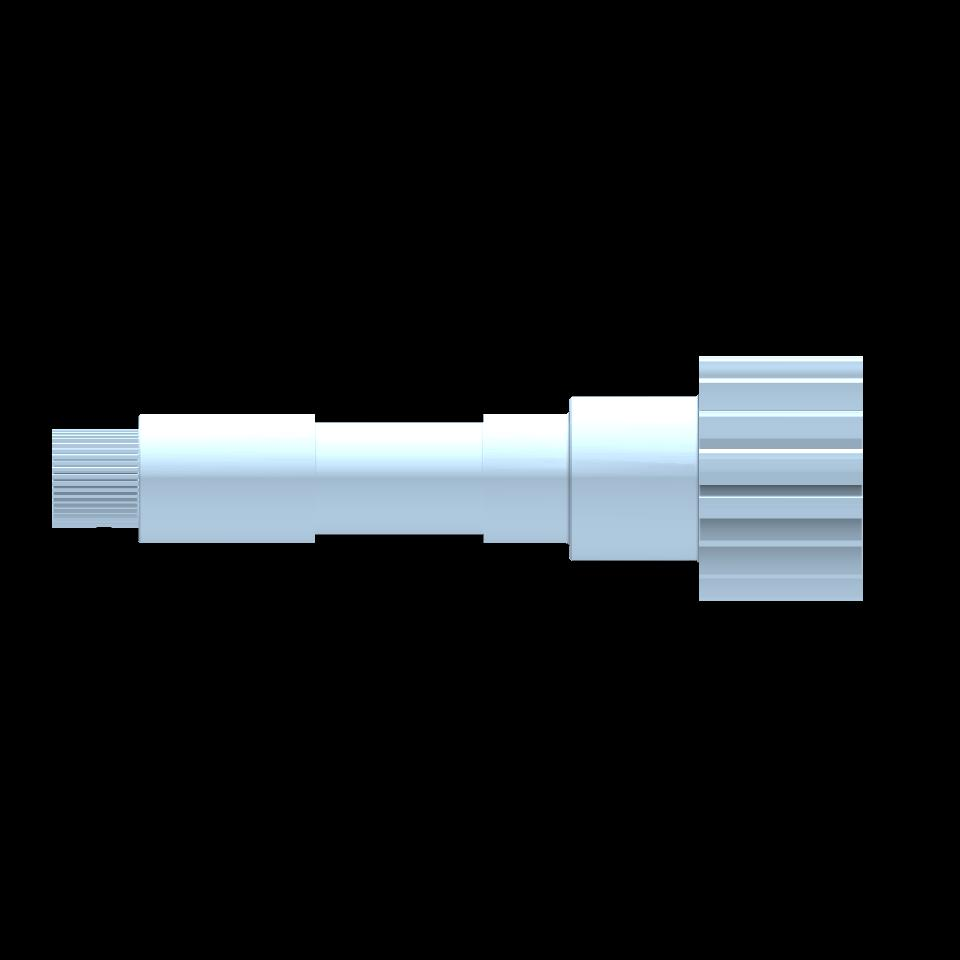Straight: (698, 357, 862, 601), (53, 428, 138, 527)
